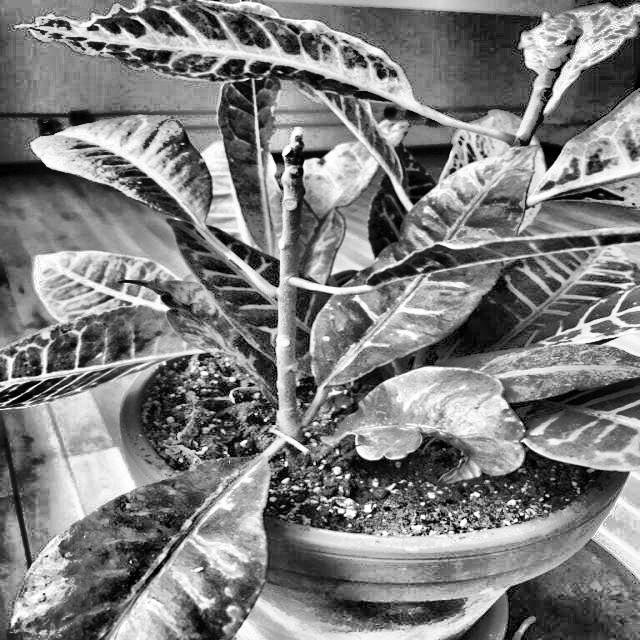plants: (14, 2, 639, 640), (340, 366, 538, 492), (0, 306, 231, 408)
